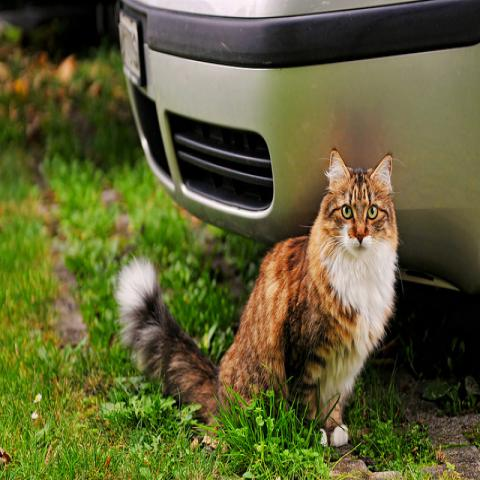car: (137, 0, 480, 298)
